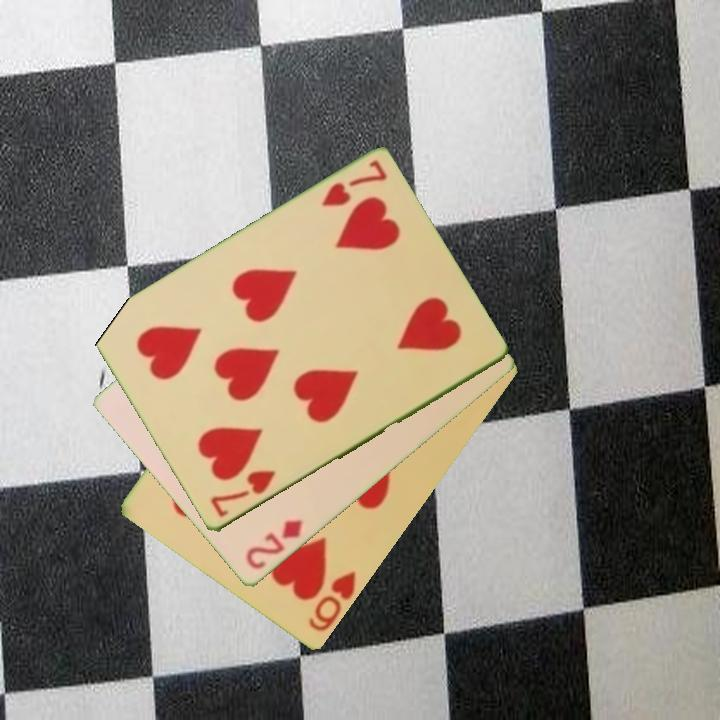2d: (242, 516, 306, 573)
6h: (305, 568, 359, 635)
7h: (206, 467, 278, 522), (318, 157, 390, 211)
